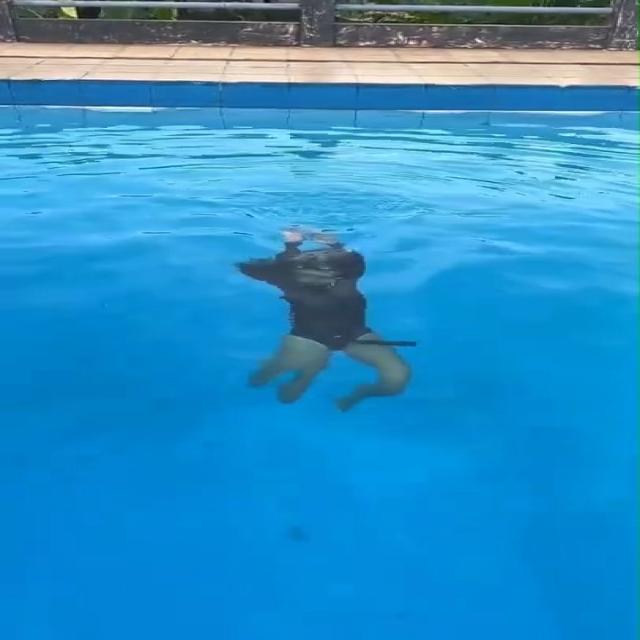Drowning: (240, 227, 419, 414)
